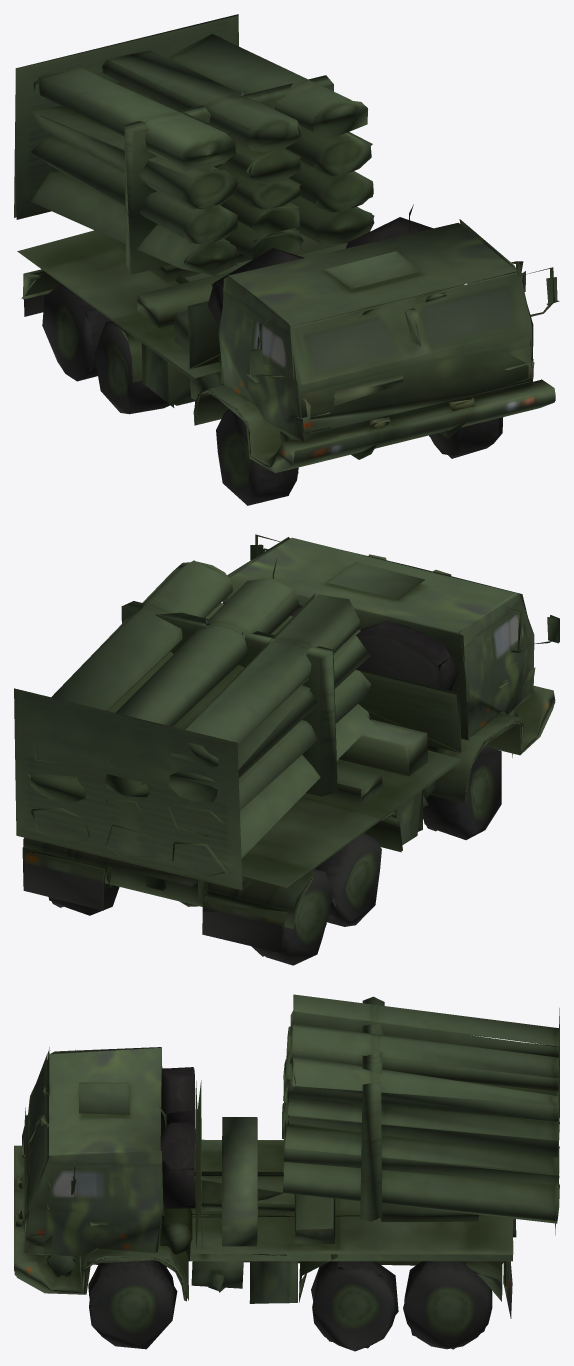
File: cn-phl-03.glb
3 renders of one model, top to bottom at view 1: azimuth 30°, elevation 25°; view 2: azimuth 150°, elevation 25°; view 3: azimuth 270°, elevation 25°, orthographic. The views are drawn at different scales.
Parts seen in each view (by area): view 1: cn-phl-03; view 2: cn-phl-03; view 3: cn-phl-03.
Boxes of the visible parts, x1,y1,x2,y2 form: cn-phl-03: [14, 14, 559, 505]; cn-phl-03: [14, 534, 559, 965]; cn-phl-03: [14, 994, 559, 1351].
Size of the model in its own units: 0.645 by 0.585 by 1.08.
2 materials, 1 textured.
